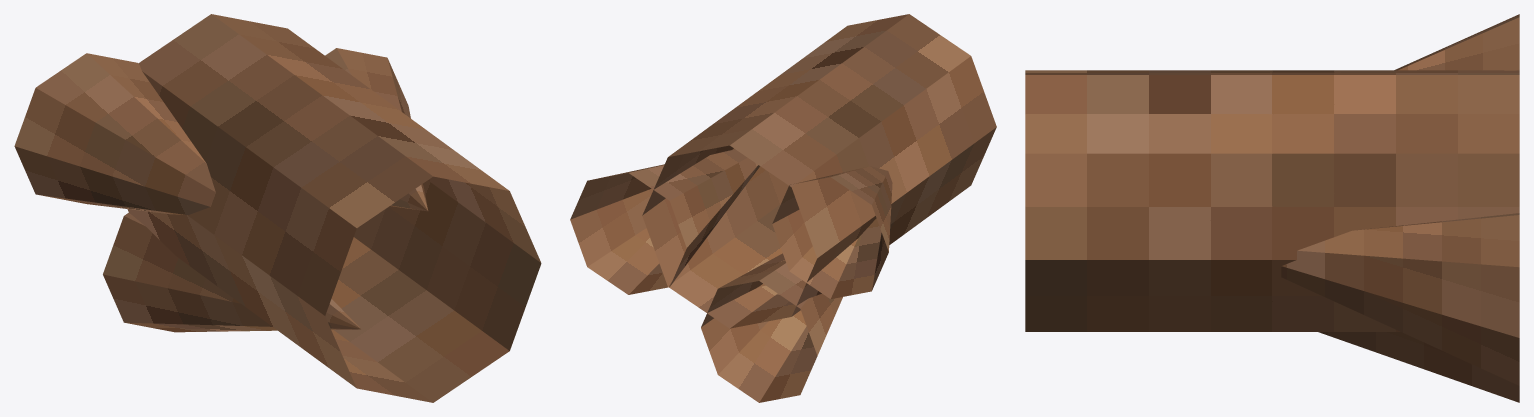
Rendered from tree-oak-bottom.glb.
The picture shows the model from 3 angles, left to right: view 1: azimuth 30°, elevation 25°; view 2: azimuth 150°, elevation 25°; view 3: azimuth 270°, elevation 25°; orthographic projection. The views are drawn at different scales.
Parts seen in each view (by area): view 1: tree-oak-bottom; view 2: tree-oak-bottom; view 3: tree-oak-bottom.
Part boxes in pixels (x1,y1,x2,y2): tree-oak-bottom: (14,14,541,402); tree-oak-bottom: (570,14,996,402); tree-oak-bottom: (1025,14,1519,402).
Bounding box in the file's own units: 1.02 × 0.7687 × 1.
Materials: 1 (1 with a texture image).
